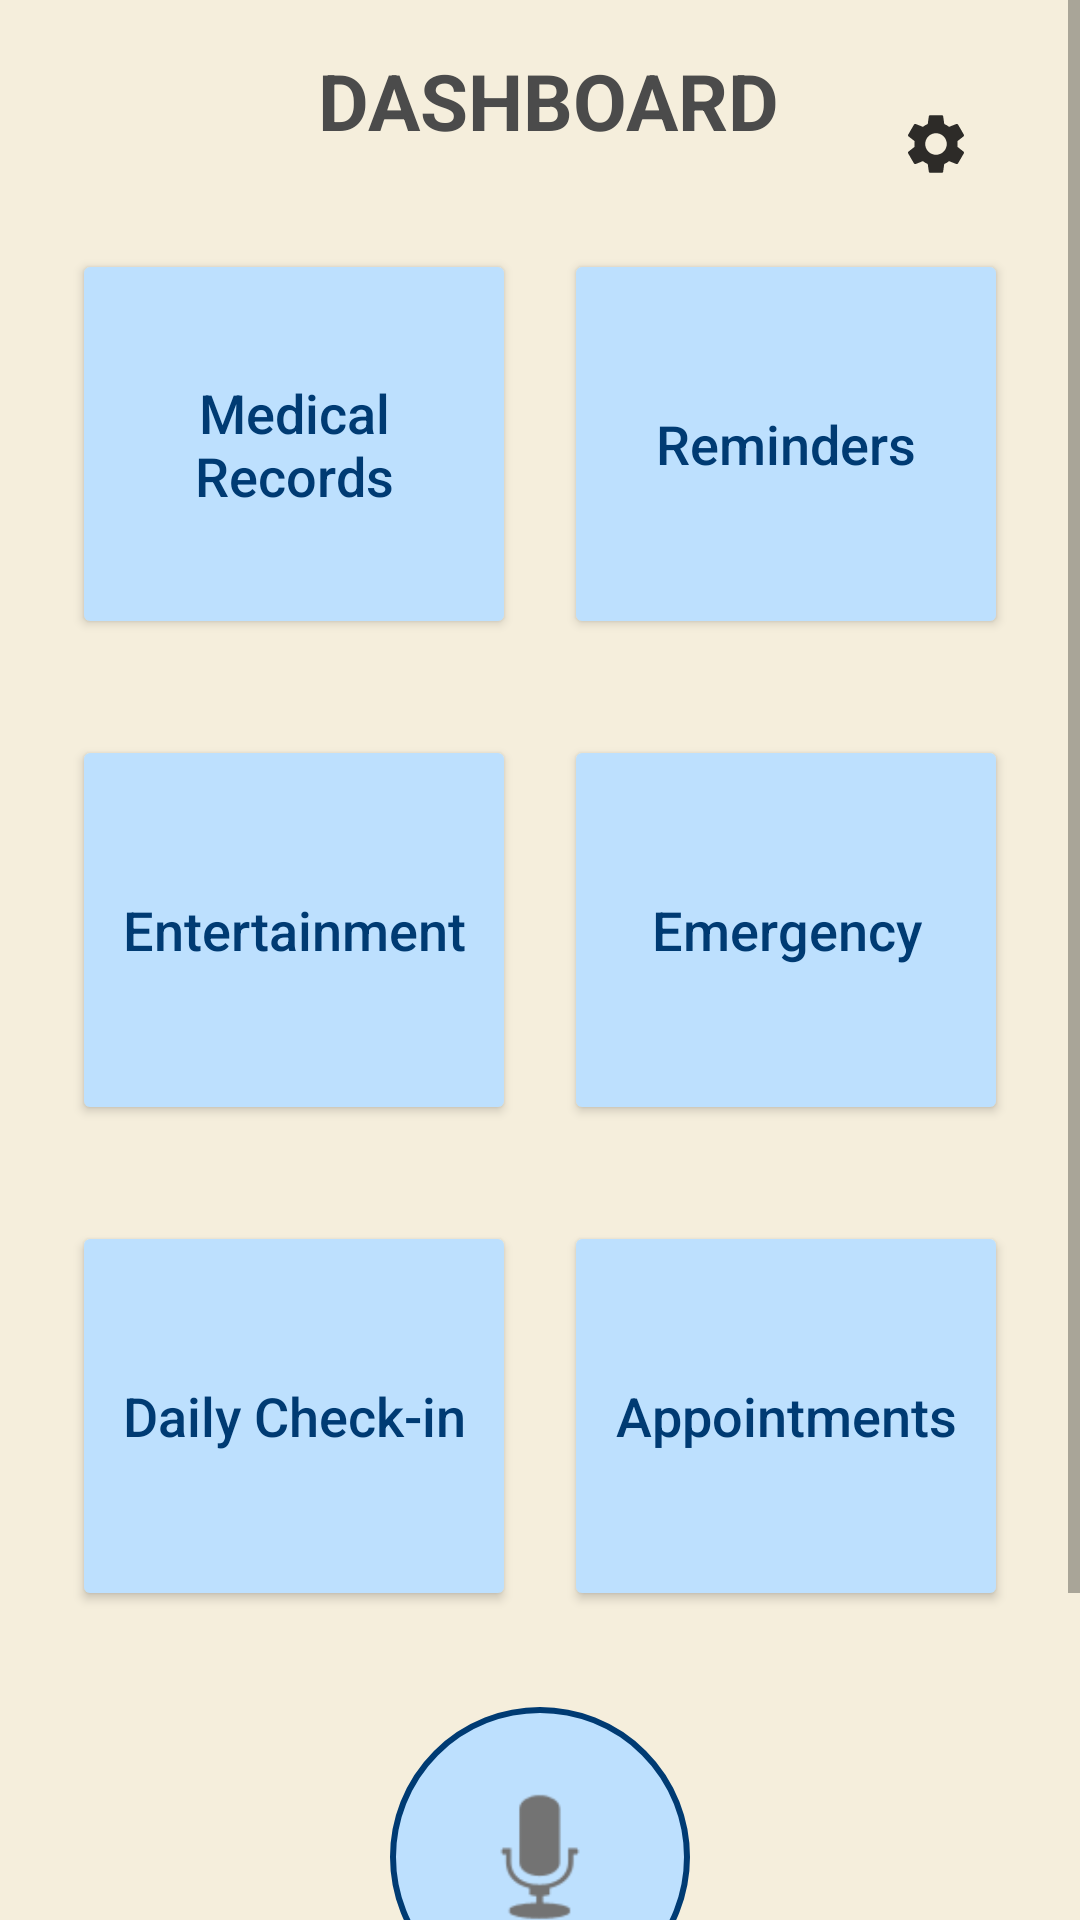

Named icons in this screenshot (1080px x 1920px) and their centers, point (x, y):
Settings: point (936, 144)
